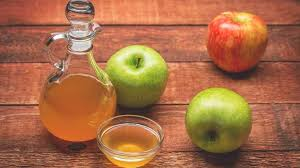apple: (102, 44, 180, 107), (206, 11, 277, 79), (182, 89, 252, 155)
